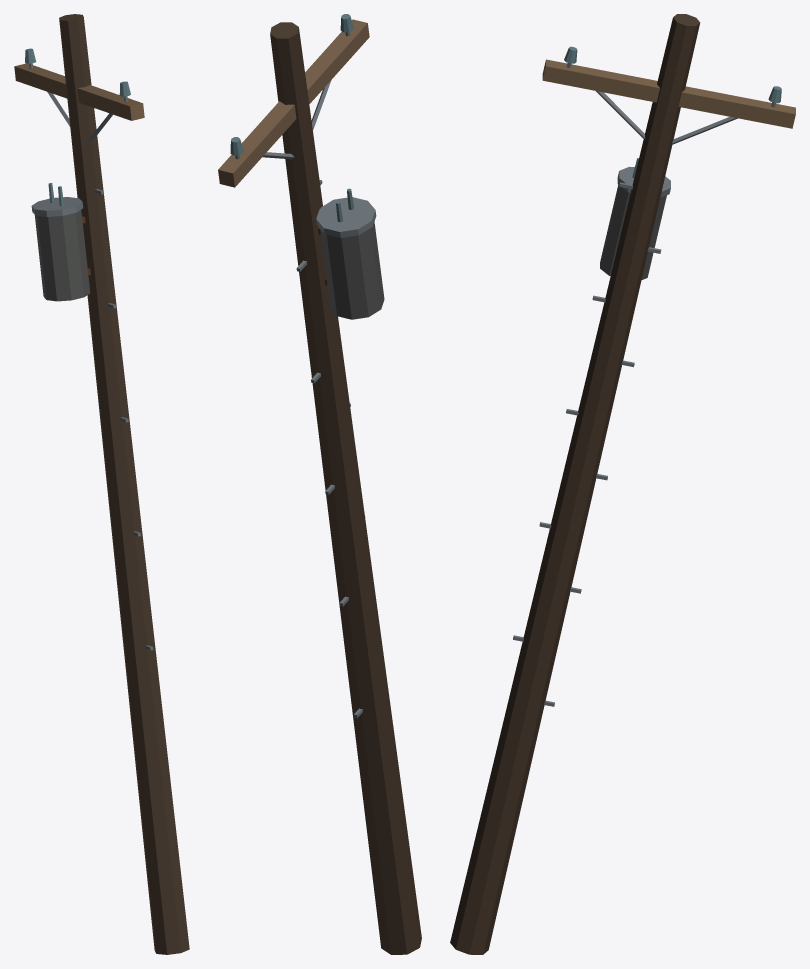
Rendered from power_pole_leaning.glb.
3 views of the same model, side by side, from view 1: azimuth 30°, elevation 25°; view 2: azimuth 150°, elevation 25°; view 3: azimuth 270°, elevation 25° (orthographic). The views are drawn at different scales.
Parts seen in each view (by area): view 1: power_pole_leaning; view 2: power_pole_leaning; view 3: power_pole_leaning.
Boxes of the visible parts, x1,y1,x2,y2 form: power_pole_leaning: (14, 14, 189, 954); power_pole_leaning: (218, 14, 421, 954); power_pole_leaning: (450, 14, 795, 954).
Bounding box in the file's own units: 0.77 × 8.86 × 2.98.
Materials: 3 (3 with a texture image).
